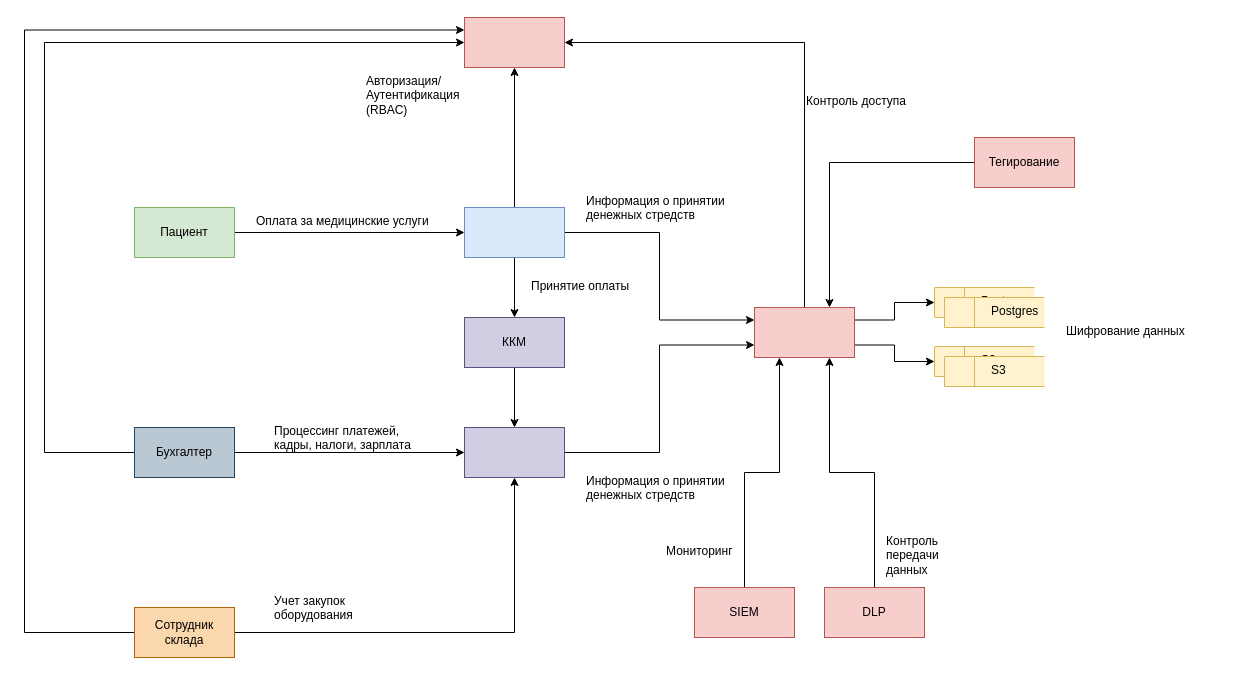
Image size: 1237x675. Some labels were removed from this diagram. The shapes that lost their labels are listed below. From the top down, each one's box as (x1, y1, x2, y2) in pixels, then its label:
(464, 16, 564, 68): IAM
(464, 206, 564, 258): Кассир
(754, 306, 854, 358): Точка входа в систему хранения
(464, 426, 564, 478): 1С
